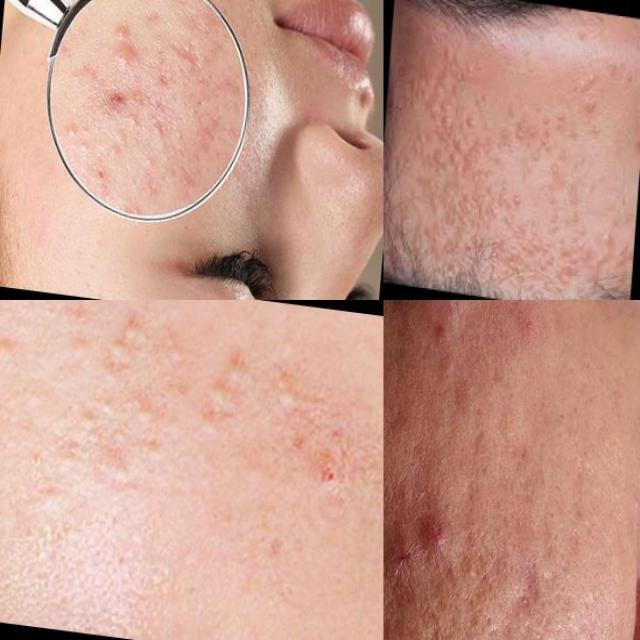acne_scars: (503, 549, 546, 619), (168, 24, 202, 64), (146, 98, 168, 138), (98, 85, 125, 109)
comedone: (427, 150, 513, 215), (417, 202, 503, 266), (195, 318, 249, 409), (273, 324, 310, 420), (108, 316, 147, 394), (72, 130, 97, 156), (63, 107, 81, 142), (102, 135, 121, 161), (134, 146, 154, 170), (127, 102, 141, 135), (172, 124, 184, 145)
cystic: (384, 300, 491, 337), (422, 495, 461, 566)
flat_wart: (501, 210, 624, 298), (397, 27, 483, 103), (414, 99, 497, 160), (499, 110, 568, 162)
papule: (384, 510, 442, 629), (106, 13, 136, 45)
